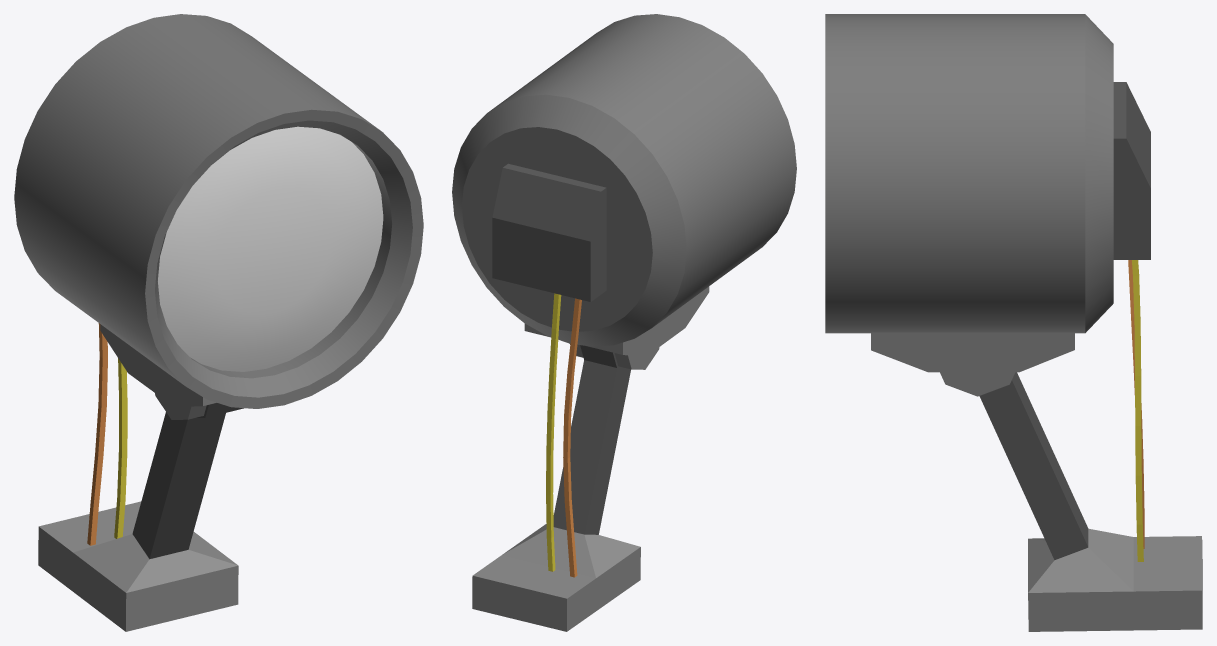
The model's file is spotlight.fbx.
3 renders of one model, left to right at view 1: azimuth 30°, elevation 25°; view 2: azimuth 150°, elevation 25°; view 3: azimuth 270°, elevation 25°, orthographic. The views are drawn at different scales.
Visible parts, largest first — view 1: Spotlight; view 2: Spotlight; view 3: Spotlight.
Part boxes in pixels (x1,y1,x2,y2): Spotlight: [14, 14, 423, 631]; Spotlight: [452, 14, 796, 631]; Spotlight: [825, 14, 1202, 631].
Bounding box in the file's own units: 30.08 × 35.52 × 59.78.
